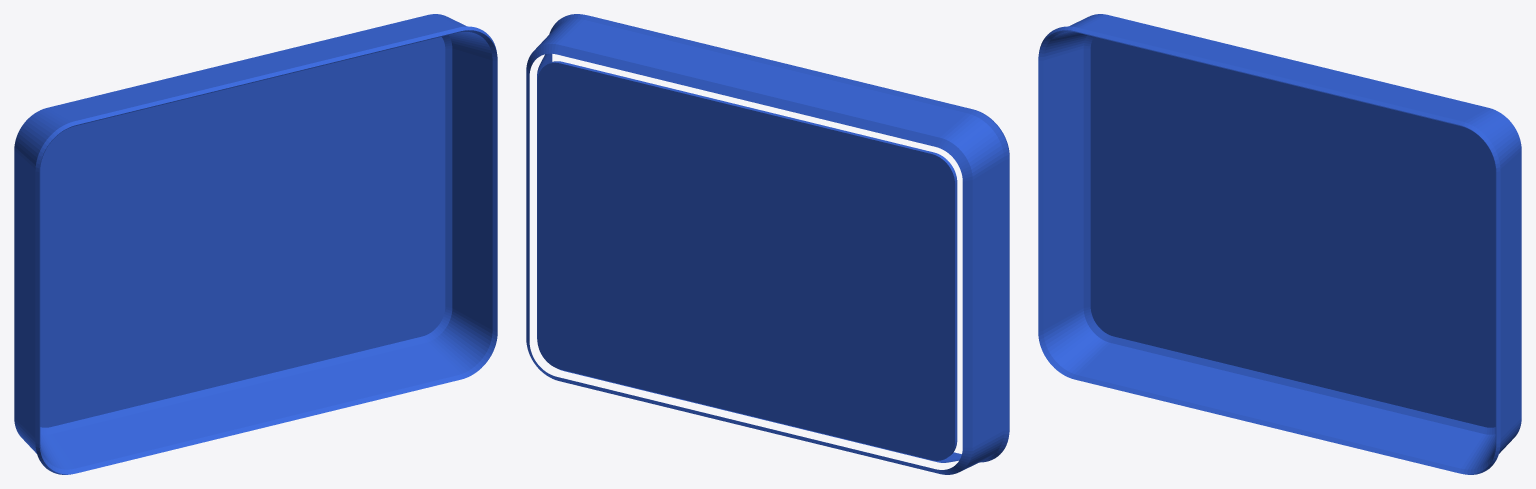
The model's file is tray.glb.
The picture shows the model from 3 angles, left to right: view 1: azimuth 30°, elevation 25°; view 2: azimuth 150°, elevation 25°; view 3: azimuth 330°, elevation 25°; orthographic projection.
Parts seen in each view (by area): view 1: 1_rounded_floor, 0_tapered_wall_and_rolled_rim; view 2: 1_rounded_floor, 0_tapered_wall_and_rolled_rim; view 3: 1_rounded_floor, 0_tapered_wall_and_rolled_rim.
Part boxes in pixels (<box>): 1_rounded_floor: <box>40,37,445,427</box>; 0_tapered_wall_and_rolled_rim: <box>14,14,497,474</box>; 1_rounded_floor: <box>537,61,957,460</box>; 0_tapered_wall_and_rolled_rim: <box>526,14,1009,474</box>; 1_rounded_floor: <box>1090,37,1495,427</box>; 0_tapered_wall_and_rolled_rim: <box>1038,14,1521,474</box>.
Bounding box in the file's own units: 0.24 × 0.175 × 0.031.
